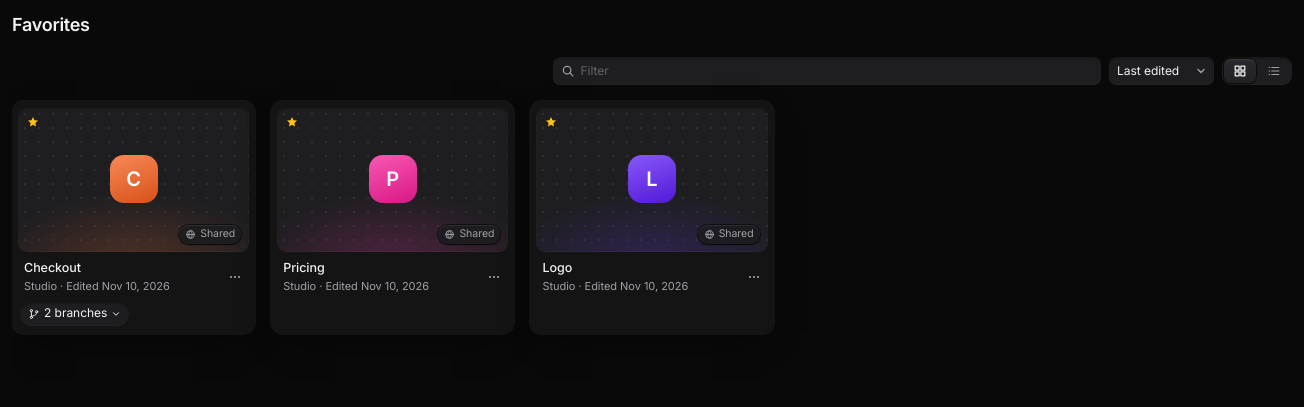
Test case: branches under their main file › shows a main file’s branches in the grid behind a disclosure, and opens one
Later steps or results of the test are not shown.
Click the button with aria-label "Show 2 branches of Checkout" at (75, 314), box 20,302 -> 129,326
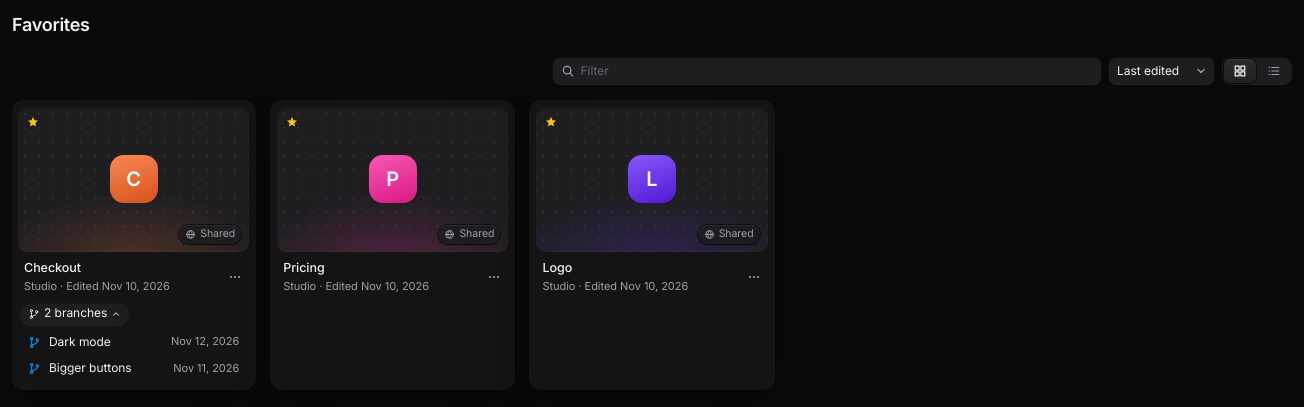
expect the button named "Show 2 branches of Checkout" is expanded: met, box 20,302 -> 129,326
